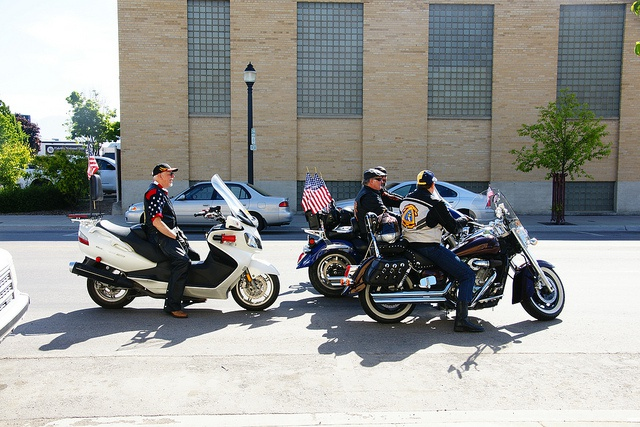non-vehicle: (341, 187, 565, 319), (68, 172, 280, 311), (295, 203, 473, 294)
